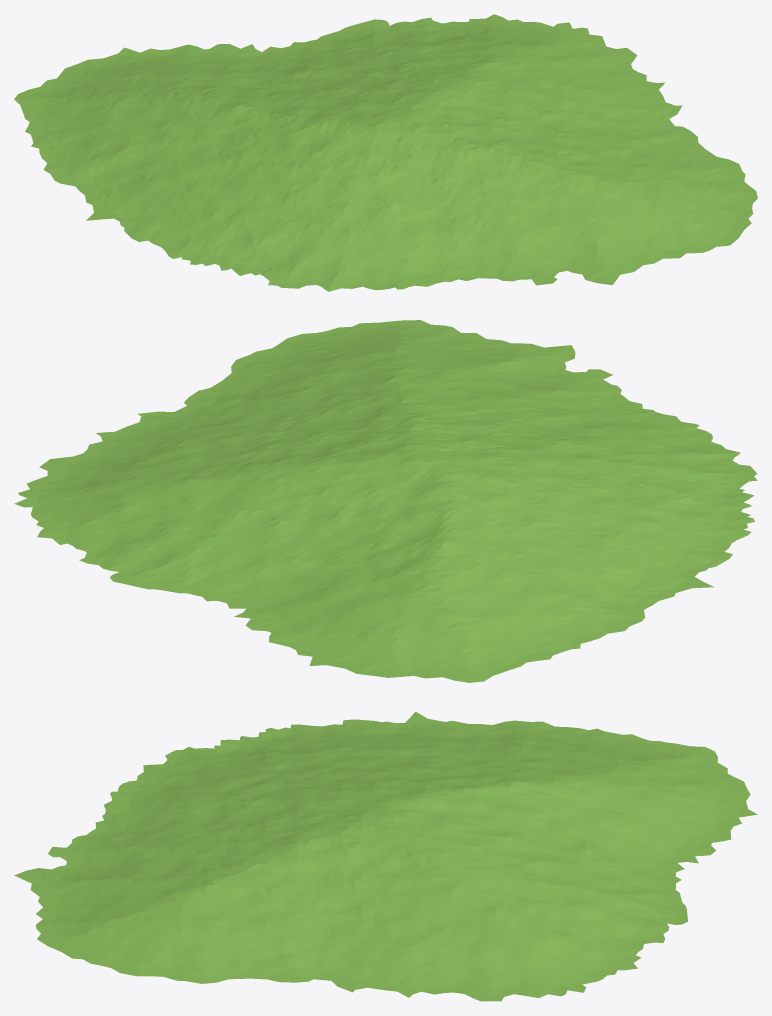
File: MT_Island_H_b_03.fbx
3 views of the same model, one above another, from view 1: azimuth 30°, elevation 25°; view 2: azimuth 150°, elevation 25°; view 3: azimuth 270°, elevation 25° (orthographic). The views are drawn at different scales.
Visible parts, largest first — view 1: MT_Island_H_b_03; view 2: MT_Island_H_b_03; view 3: MT_Island_H_b_03.
Boxes of the visible parts, x1,y1,x2,y2 form: MT_Island_H_b_03: (14,14,757,291); MT_Island_H_b_03: (14,320,757,682); MT_Island_H_b_03: (14,711,757,1001).
Bounding box in the file's own units: 42109 × 2698 × 45702.
